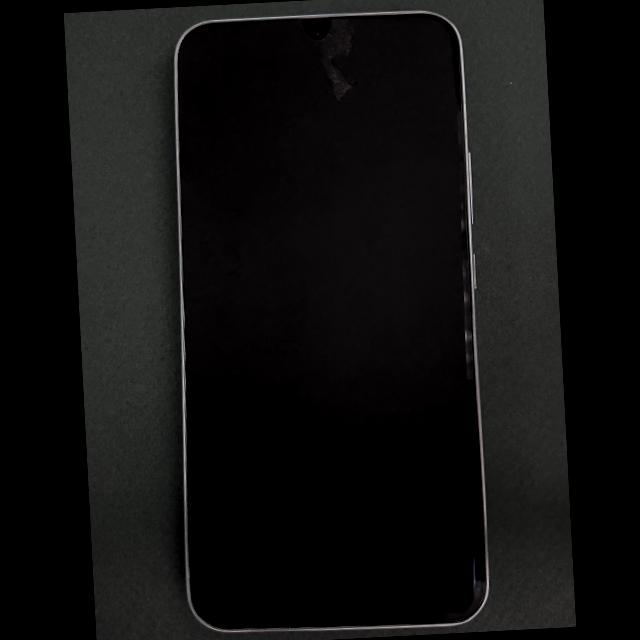phone: (175, 12, 488, 630)
